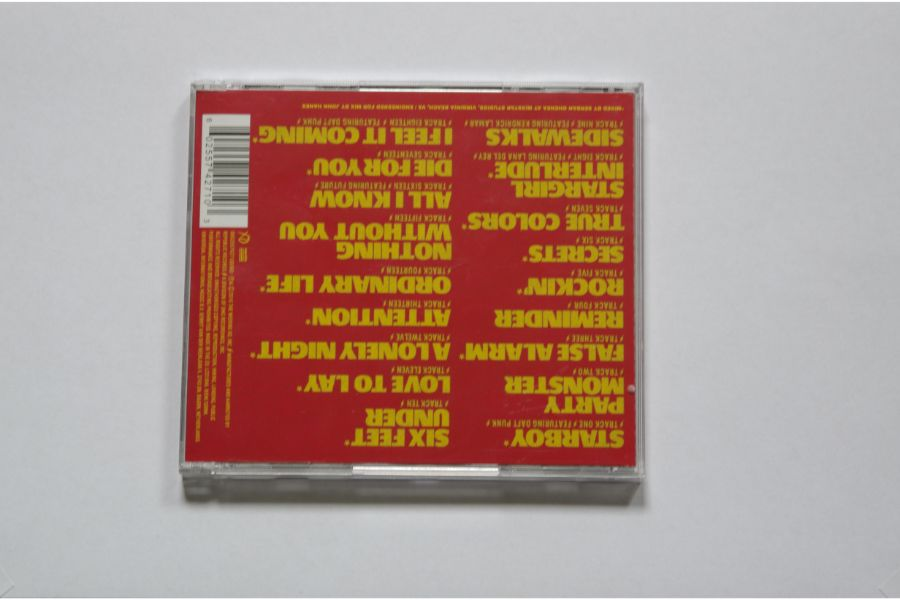album: (176, 80, 653, 487)
